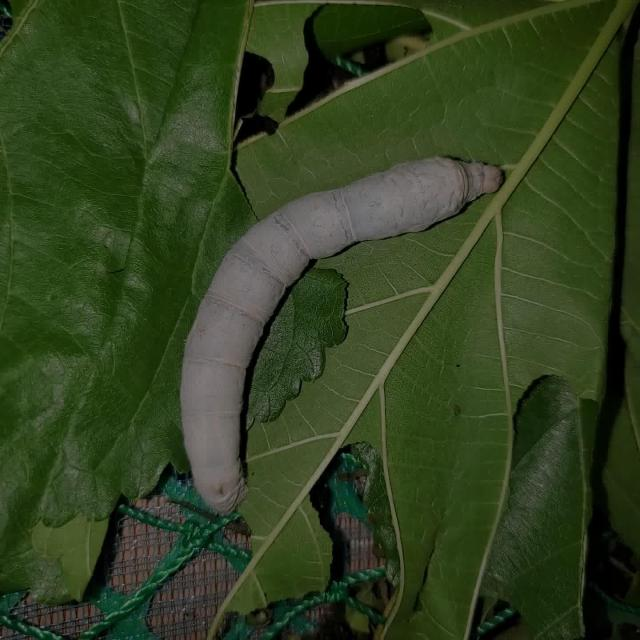Healthy: (168, 132, 523, 526)
